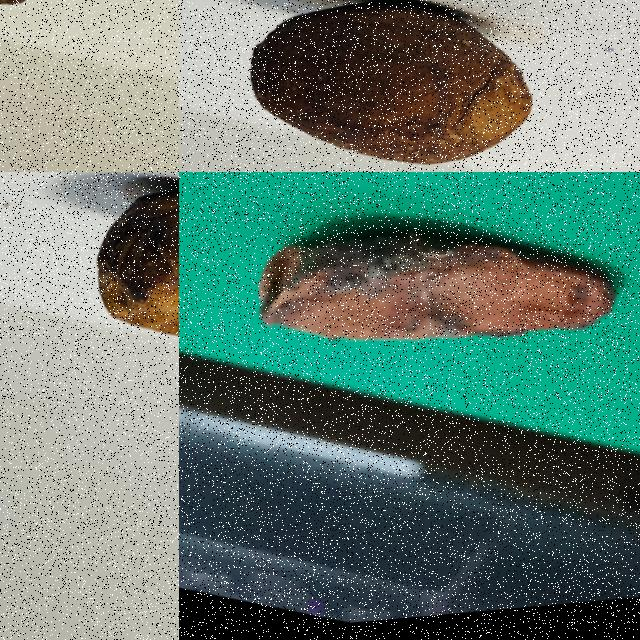Fine_cocoabeans: (179, 0, 593, 171), (13, 172, 178, 439)
Flat_cocoabeans: (179, 172, 639, 468), (0, 0, 135, 74)
